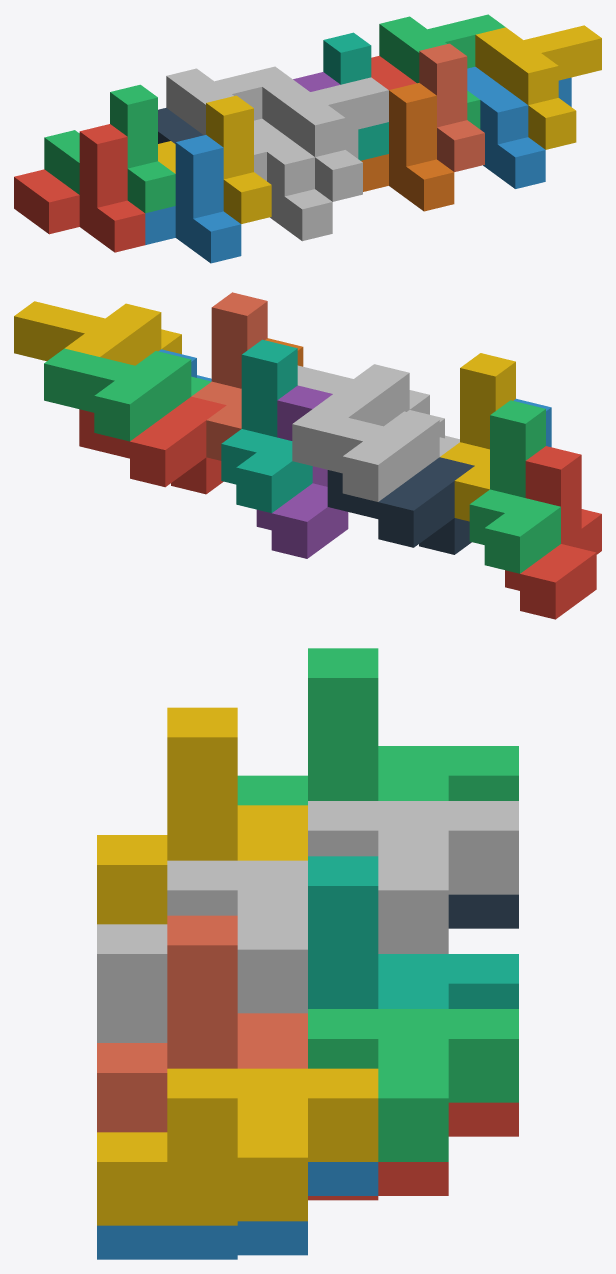
File: tiling.obj
3 views of the same model, one above another, from view 1: azimuth 30°, elevation 25°; view 2: azimuth 150°, elevation 25°; view 3: azimuth 270°, elevation 25° (orthographic). The views are drawn at different scales.
Parts seen in each view (by area): view 1: copy_1_domain_1, copy_2_domain_8, copy_2_domain_4, copy_1_domain_2, copy_1_domain_6, copy_1_domain_3, copy_2_domain_6, copy_2_domain_2, copy_1_domain_4, copy_1_domain_8, copy_2_domain_7, copy_2_domain_3 (+4 smaller); view 2: copy_1_domain_3, copy_1_domain_7, copy_2_domain_3, copy_2_domain_7, copy_1_domain_1, copy_2_domain_8, copy_2_domain_5, copy_2_domain_1, copy_1_domain_8, copy_1_domain_4, copy_1_domain_5, copy_2_domain_4; view 3: copy_2_domain_8, copy_2_domain_7, copy_2_domain_4, copy_2_domain_3, copy_1_domain_4, copy_1_domain_8, copy_1_domain_3, copy_1_domain_7, copy_2_domain_6, copy_2_domain_5, copy_2_domain_1, copy_2_domain_2.
Part boxes in pixels (box(x1,y1,x2,y2)): copy_1_domain_1: box(14, 124, 145, 252); copy_2_domain_8: box(475, 25, 601, 149); copy_2_domain_4: box(262, 77, 388, 201); copy_1_domain_2: box(145, 135, 241, 263); copy_1_domain_6: box(361, 83, 454, 211); copy_1_domain_3: box(44, 84, 175, 213); copy_2_domain_6: box(467, 66, 571, 188); copy_2_domain_2: box(254, 118, 358, 241); copy_1_domain_4: box(158, 95, 271, 223); copy_1_domain_8: box(419, 43, 484, 171); copy_2_domain_7: box(379, 14, 505, 128); copy_2_domain_3: box(166, 66, 292, 180); copy_1_domain_3: box(469, 400, 560, 573); copy_1_domain_7: box(221, 339, 312, 513); copy_2_domain_3: box(292, 409, 459, 501); copy_2_domain_7: box(44, 348, 211, 441); copy_1_domain_1: box(505, 446, 601, 619); copy_2_domain_8: box(14, 301, 181, 365); copy_2_domain_5: box(79, 396, 226, 494); copy_2_domain_1: box(327, 457, 474, 554); copy_1_domain_8: box(191, 292, 267, 460); copy_1_domain_4: box(440, 353, 515, 521); copy_1_domain_5: box(256, 385, 348, 558); copy_2_domain_4: box(297, 364, 429, 426); copy_2_domain_8: box(97, 1068, 378, 1225); copy_2_domain_7: box(308, 1009, 518, 1161); copy_2_domain_4: box(97, 860, 307, 1017); copy_2_domain_3: box(308, 801, 518, 953); copy_1_domain_4: box(97, 707, 307, 924); copy_1_domain_8: box(97, 915, 307, 1132); copy_1_domain_3: box(237, 648, 518, 805); copy_1_domain_7: box(308, 856, 518, 1008); copy_2_domain_6: box(97, 1162, 378, 1259); copy_2_domain_5: box(308, 1102, 518, 1200); copy_2_domain_1: box(448, 894, 518, 928); copy_2_domain_2: box(97, 1017, 167, 1042).
Bounding box in the file's own units: 17 × 4 × 6.
